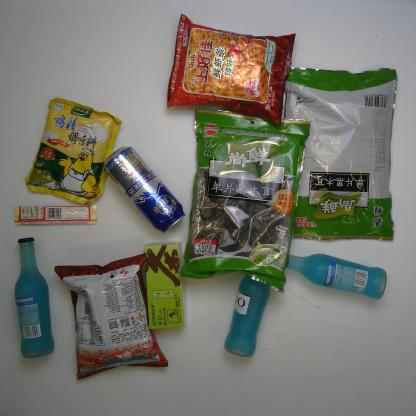Alcohol: (101, 144, 185, 232), (13, 237, 56, 357), (284, 250, 386, 300), (223, 270, 272, 360)
Chocolate: (13, 203, 99, 228)
Dried Food: (177, 105, 312, 295), (280, 64, 398, 240)
Instant Drink: (142, 243, 186, 332)
Puffed Food: (51, 252, 168, 380), (166, 11, 297, 123)
Seasoner: (27, 96, 122, 204)
